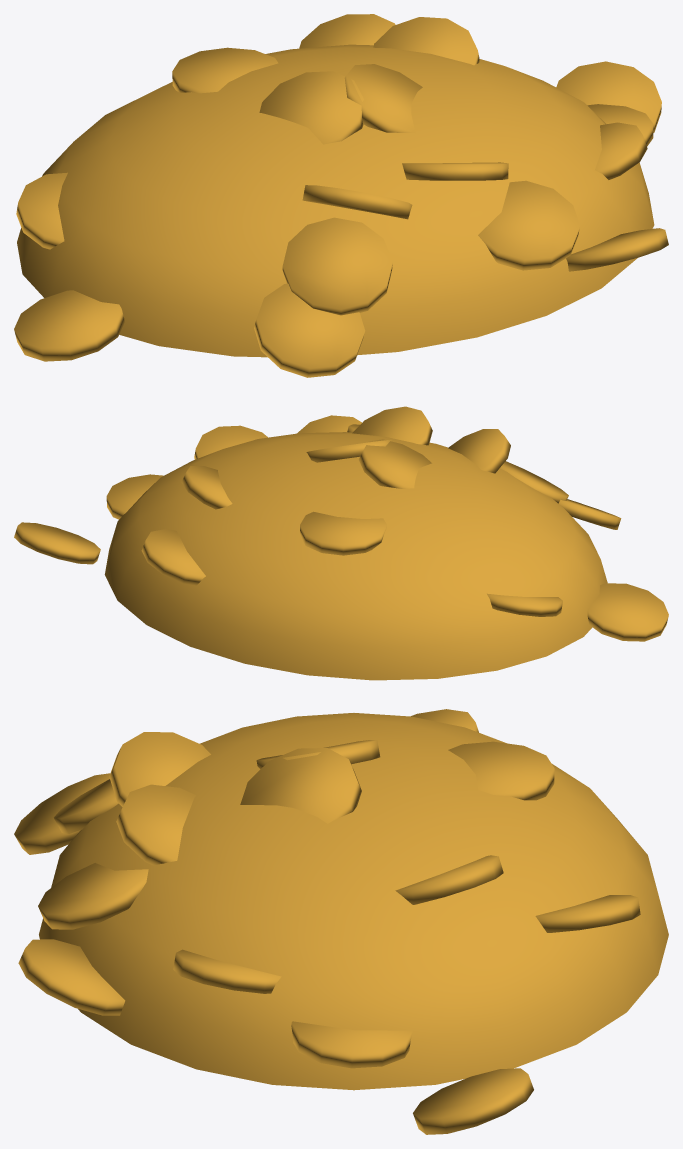
File: moedas.glb
The picture shows the model from 3 angles, top to bottom: view 1: azimuth 30°, elevation 25°; view 2: azimuth 150°, elevation 25°; view 3: azimuth 270°, elevation 25°; orthographic projection. The views are drawn at different scales.
Visible parts, largest first — view 1: moedas; view 2: moedas; view 3: moedas.
Part boxes in pixels (box(x1,y1,x2,y2)): moedas: box(14, 14, 668, 377); moedas: box(14, 406, 668, 680); moedas: box(14, 709, 668, 1134).
Size of the model in its own units: 1.06 by 0.2573 by 0.7483.
